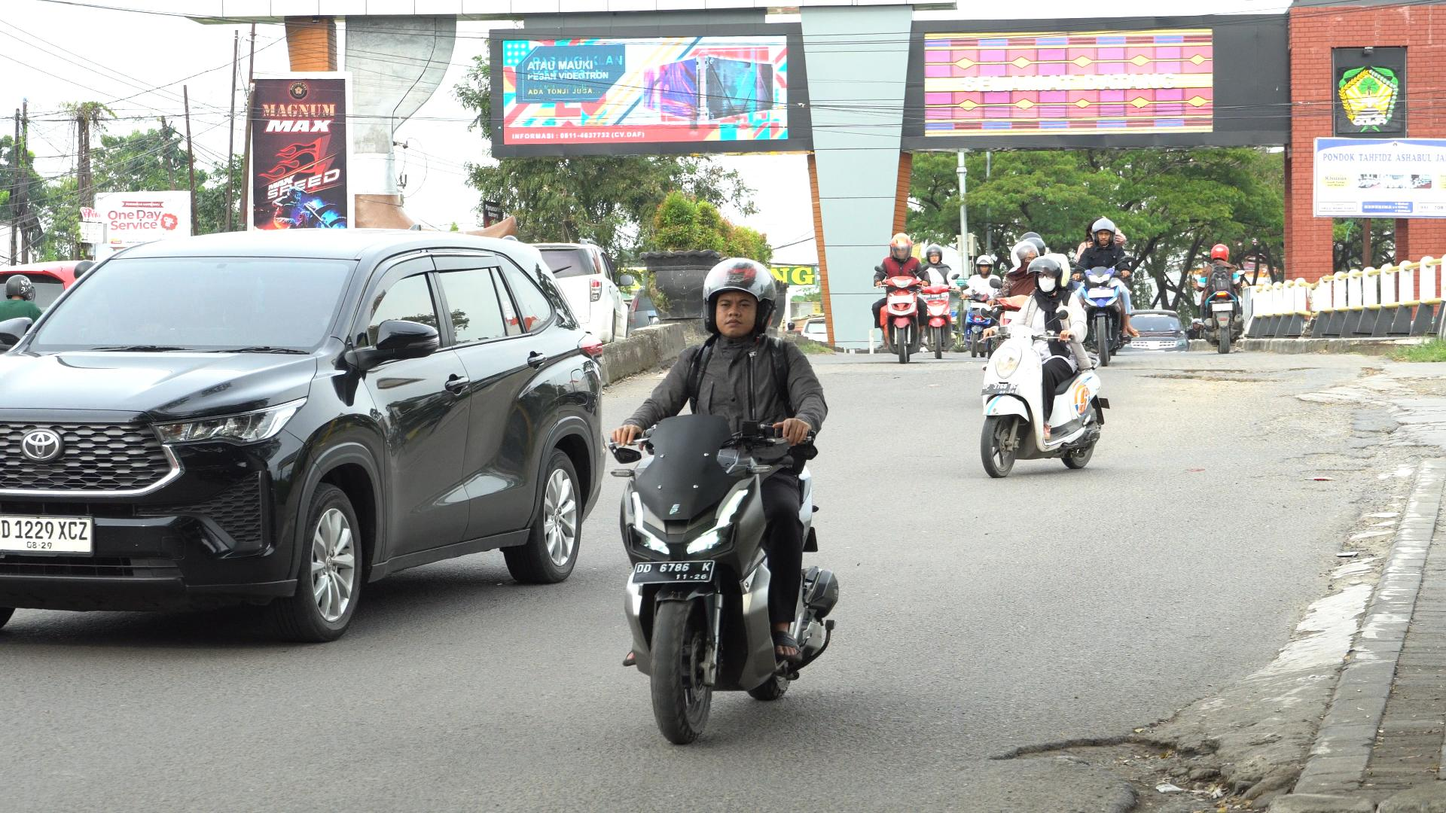number-plate: (627, 557, 713, 584)
